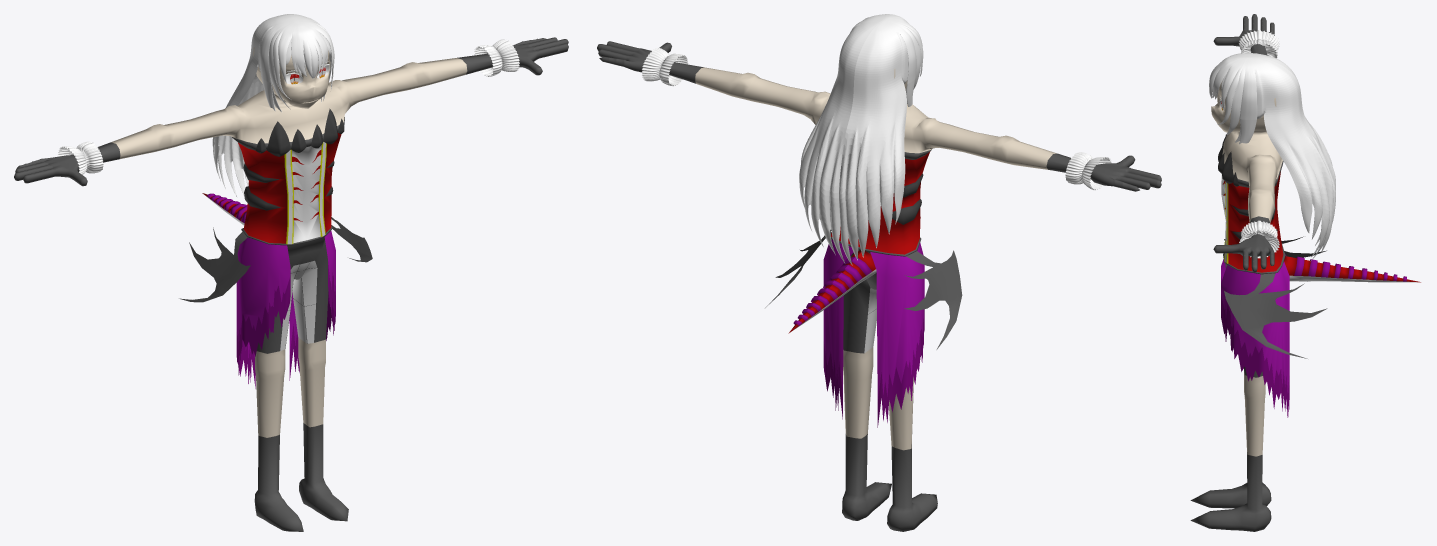
Rendered from 魔王モデル人型.fbx.
The picture shows the model from 3 angles, left to right: view 1: azimuth 30°, elevation 25°; view 2: azimuth 150°, elevation 25°; view 3: azimuth 270°, elevation 25°; orthographic projection. The views are drawn at different scales.
Visible parts, largest first — view 1: 平面.006; view 2: 平面.006; view 3: 平面.006.
Boxes of the visible parts, x1,y1,x2,y2 form: 平面.006: (14, 14, 568, 531); 平面.006: (597, 14, 1161, 531); 平面.006: (1190, 14, 1420, 531).
Size of the model in its own units: 438 by 369 by 169.
